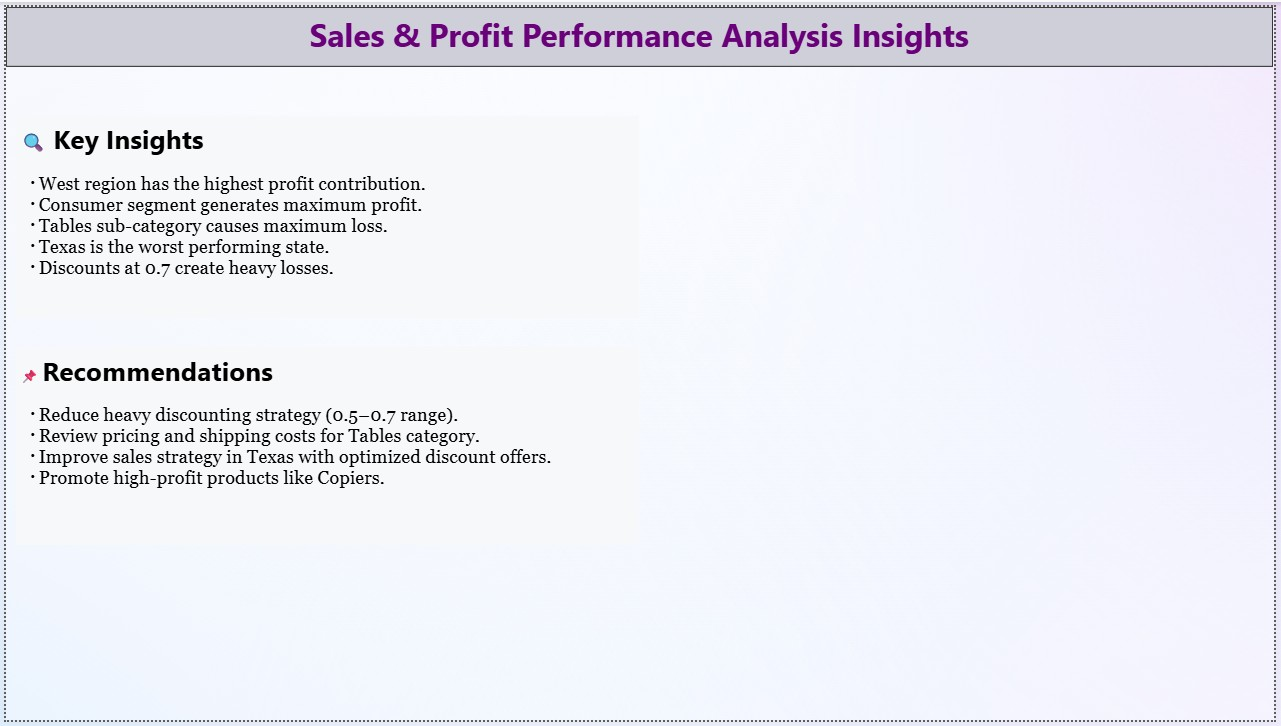

This screenshot's page, from the dashboard's own definition file:
{"tool":"powerbi","page":{"name":"Insights","canvas":[1280,720],"ordinal":1},"visuals":[{"type":"textbox","box":[10.3,110.3,629.3,205.2],"z":0},{"type":"textbox","box":[10.3,343.1,629.3,200],"z":1000},{"type":"textbox","box":[0,0,1279.3,60.3],"z":1001}]}

Visuals, with their boxes in screenshot pixels (x1, y1, x2, y2), scaled from the page's 1280x720 canvas onto the 1281x726 screenshot:
textbox: box(10, 111, 640, 318)
textbox: box(10, 346, 640, 548)
textbox: box(0, 0, 1280, 61)
